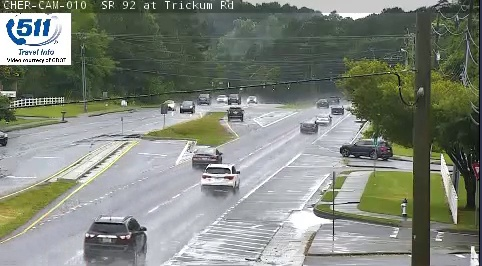car: (84, 216, 148, 261), (201, 164, 240, 192), (191, 148, 221, 166), (299, 120, 319, 135), (227, 106, 243, 120), (316, 113, 332, 125)
